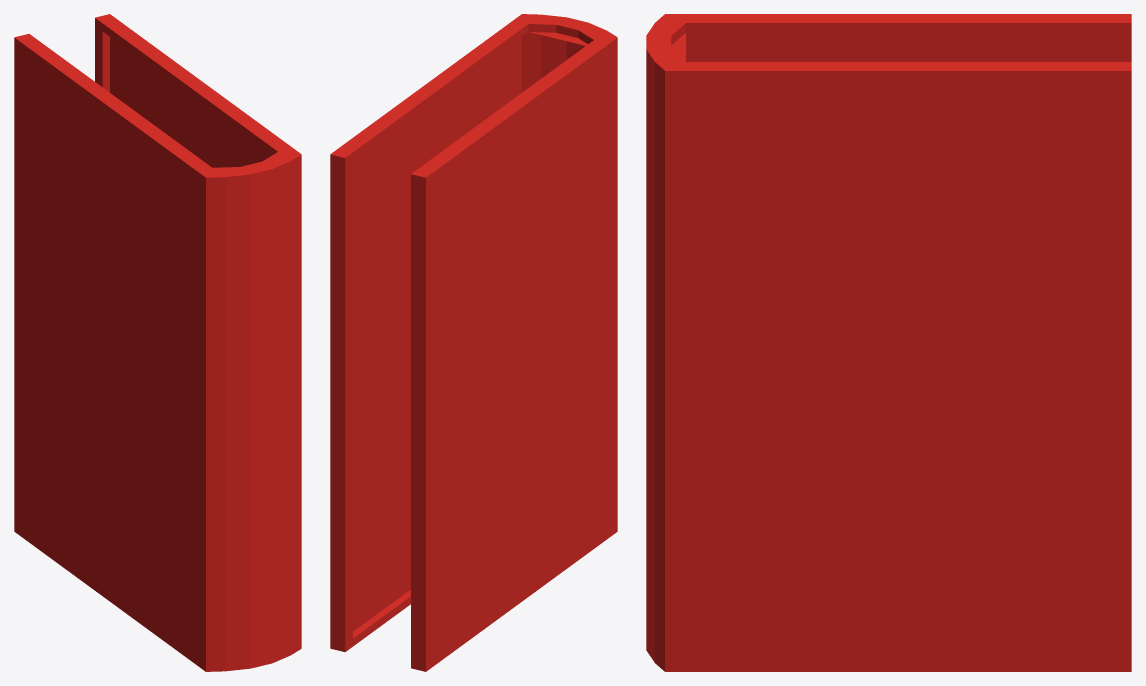
Rendered from prop_book_cover.glb.
3 renders of one model, left to right at view 1: azimuth 30°, elevation 25°; view 2: azimuth 150°, elevation 25°; view 3: azimuth 270°, elevation 25°, orthographic. The views are drawn at different scales.
Parts seen in each view (by area): view 1: Props with out snow_Book Cover_0; view 2: Props with out snow_Book Cover_0; view 3: Props with out snow_Book Cover_0.
Part boxes in pixels (x1,y1,x2,y2): Props with out snow_Book Cover_0: [14, 14, 301, 671]; Props with out snow_Book Cover_0: [330, 14, 617, 671]; Props with out snow_Book Cover_0: [646, 14, 1131, 671].
Bounding box in the file's own units: 0.198 × 0.9759 × 0.7145.
